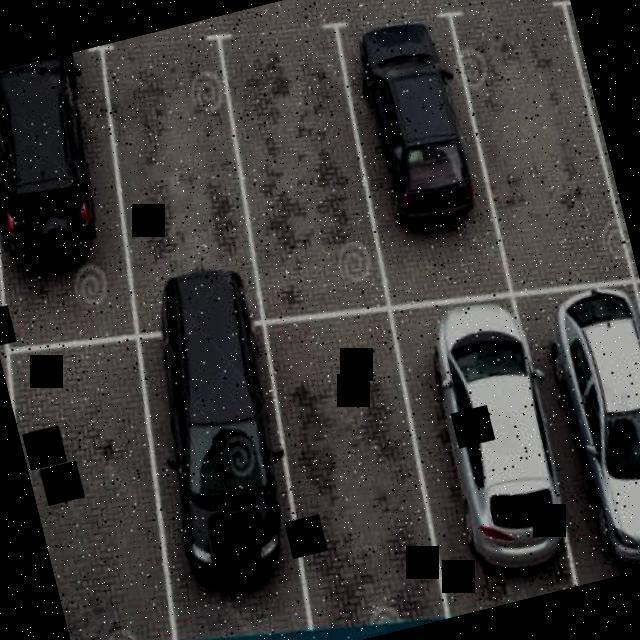car: (100, 257, 316, 615), (390, 290, 588, 598), (327, 3, 490, 238), (518, 272, 640, 583), (0, 50, 130, 285)
free: (236, 307, 455, 635), (0, 330, 195, 640), (422, 0, 624, 290), (201, 18, 398, 314), (87, 31, 263, 285), (558, 8, 634, 262)
